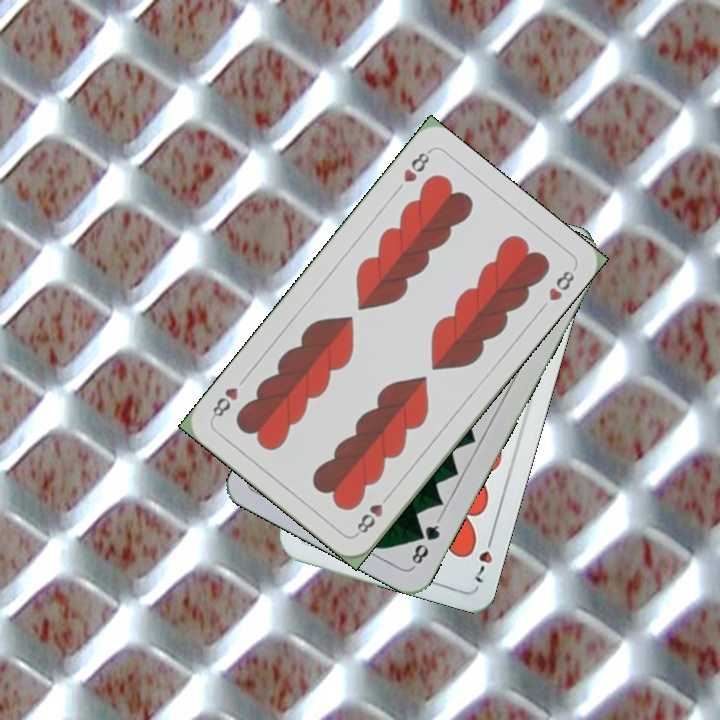G8: (407, 515, 443, 570)
H7: (471, 529, 496, 586)
H8: (352, 488, 394, 538), (399, 146, 433, 185)
